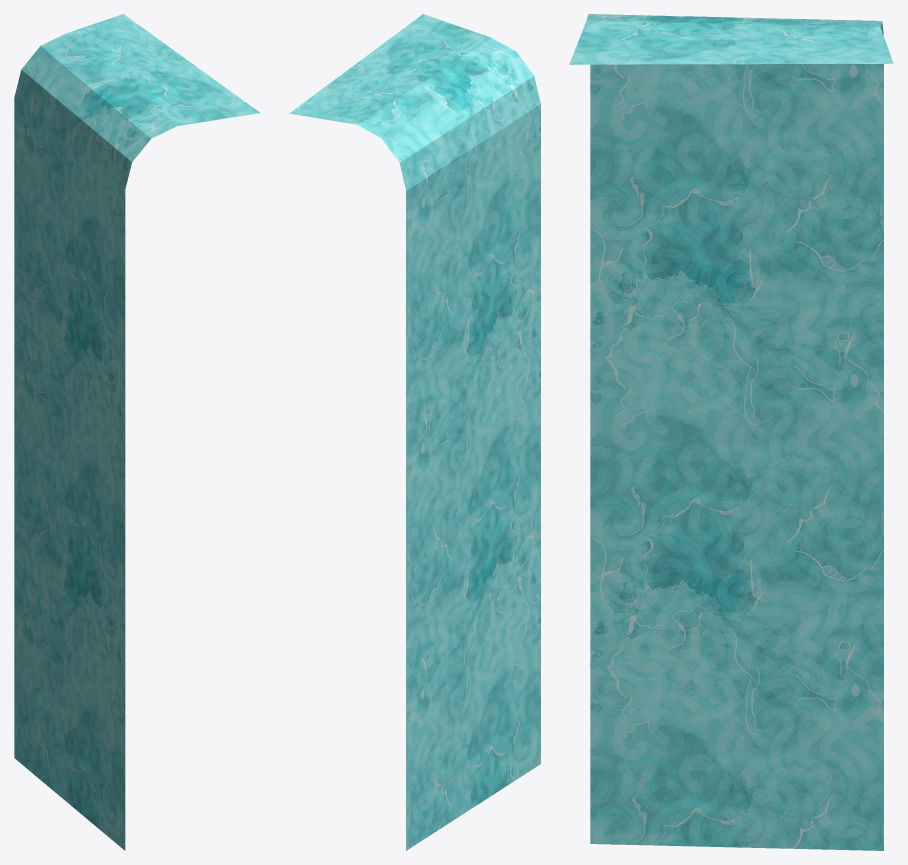
Rendered from entity249942n.gltf.
The picture shows the model from 3 angles, left to right: view 1: azimuth 30°, elevation 25°; view 2: azimuth 150°, elevation 25°; view 3: azimuth 270°, elevation 25°; orthographic projection. The views are drawn at different scales.
Parts seen in each view (by area): view 1: node_Water_Fall_01; view 2: node_Water_Fall_01; view 3: node_Water_Fall_01.
Part boxes in pixels (box(x1,y1,x2,y2)): node_Water_Fall_01: box(14, 14, 259, 850); node_Water_Fall_01: box(289, 14, 540, 850); node_Water_Fall_01: box(569, 14, 893, 850).
Size of the model in its own units: 2.76 by 14.87 by 5.13.
